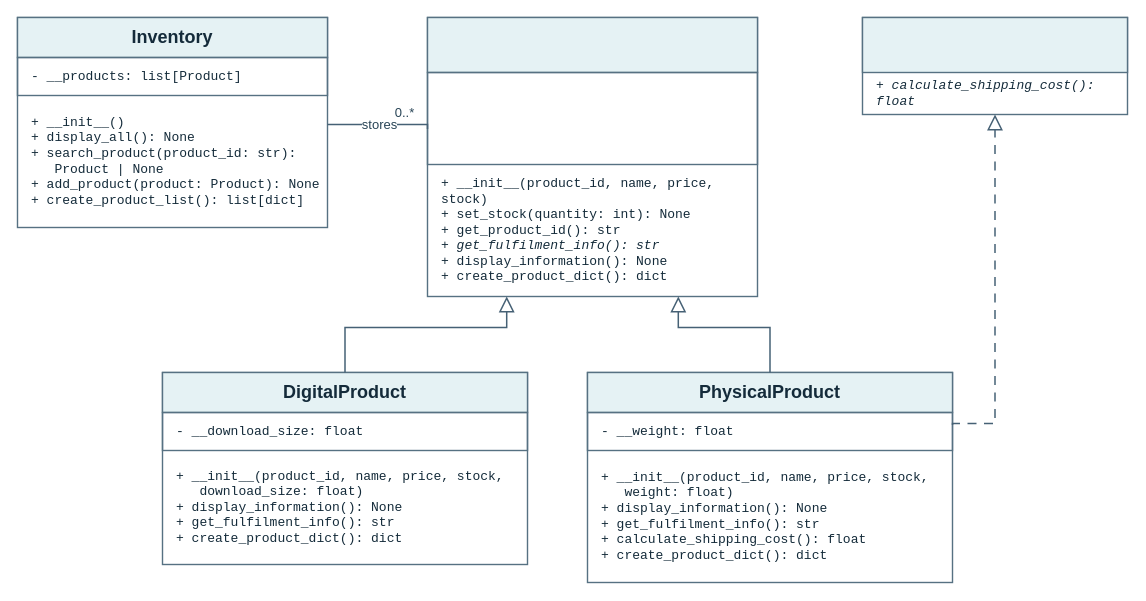
Image size: 1146x601. Some labels were removed from this diagram. Here are the shapes that lost their labels. From the top down, the centre of each, then its label:
At [592,44]: "«abstract» Product".
At [994,44]: "«interface» CanBeShipped".
At [592,118]: "- __product_id: str - __name: str - __price: float - __stock: int".
